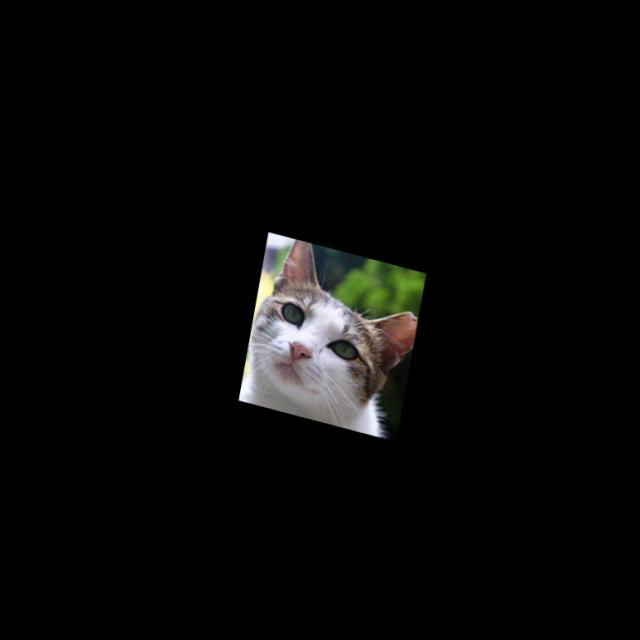animals: (231, 227, 428, 433)
